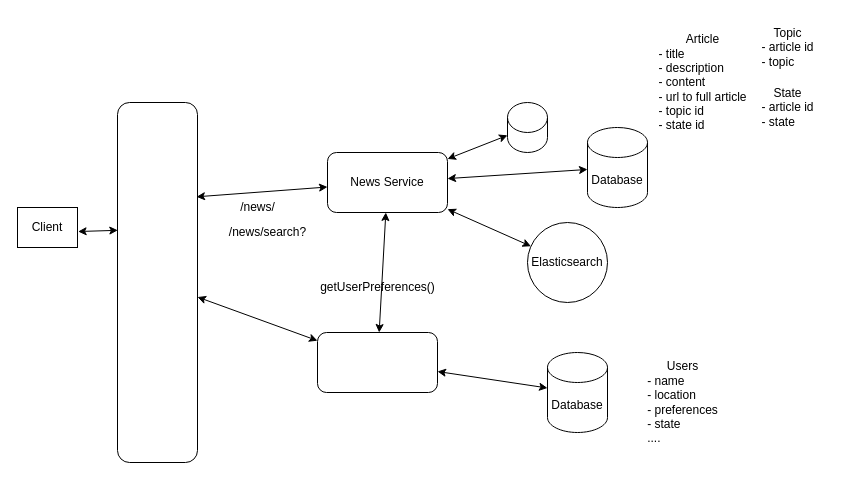
Some shapes in this 845 by 480 pixel diagram are drawn without their labels. The shapes that lost their labels are listed below. From the top down, each one's centre as x and y in pixels, then its label:
At [527,127]: "Cache".
At [157,282]: "AWS managed API Gateway - Routing - Rate limiting - Load Balancing".
At [377,362]: "User Management Service".
